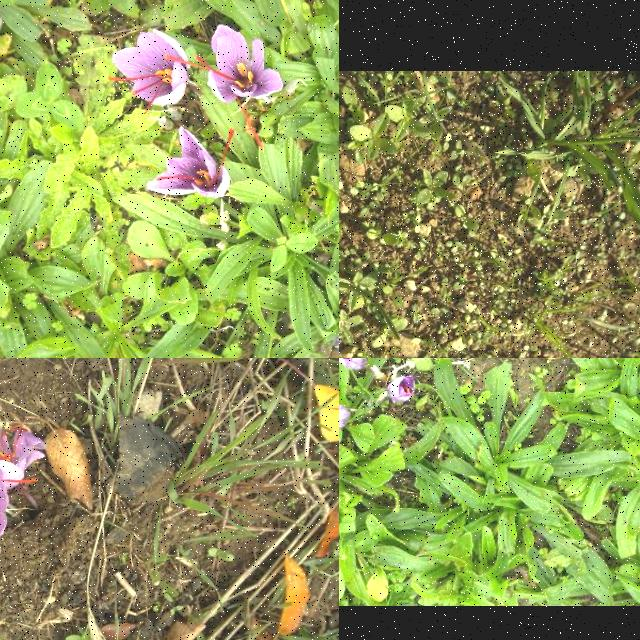flower: (162, 24, 284, 150), (106, 29, 190, 112), (147, 128, 236, 198), (387, 376, 417, 404), (339, 403, 352, 433), (339, 358, 369, 369)
overlap: (0, 420, 47, 583)
